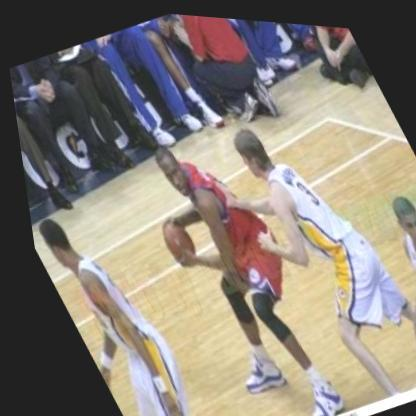basketball: (145, 208, 196, 268)
